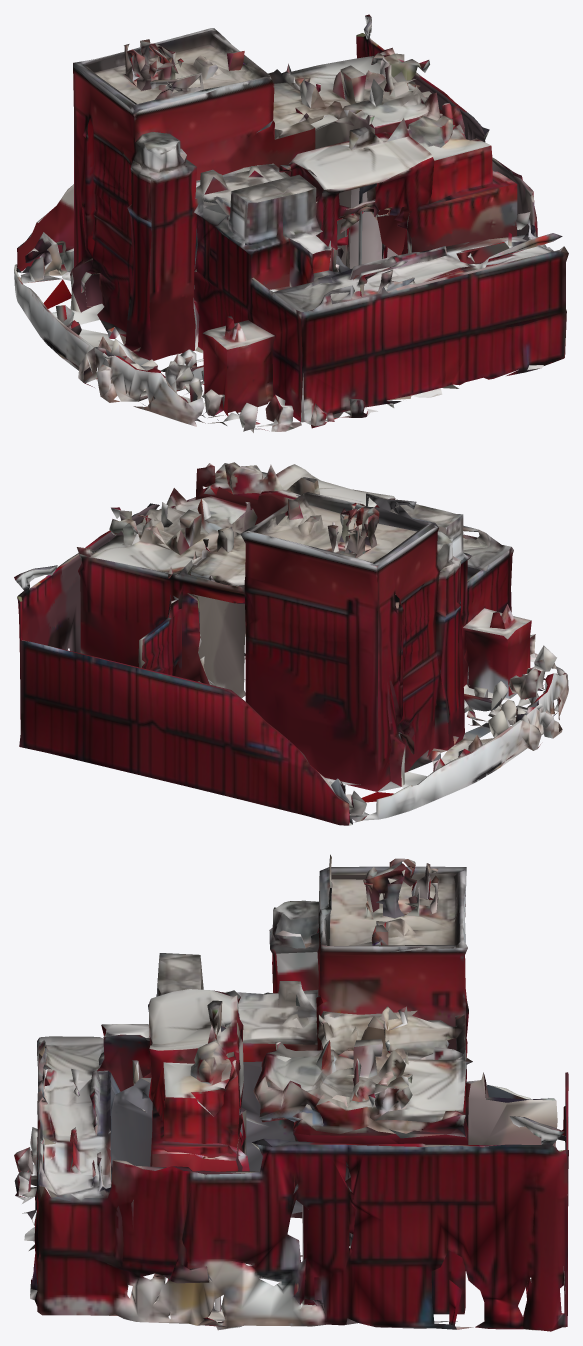
The model's file is render_works.glb.
3 renders of one model, top to bottom at view 1: azimuth 30°, elevation 25°; view 2: azimuth 150°, elevation 25°; view 3: azimuth 270°, elevation 25°, orthographic. The views are drawn at different scales.
Visible parts, largest first — view 1: LP_baked; view 2: LP_baked; view 3: LP_baked.
Part boxes in pixels (bbox=[...]): LP_baked: bbox=[14, 14, 568, 432]; LP_baked: bbox=[14, 462, 568, 825]; LP_baked: bbox=[14, 854, 568, 1331].
Size of the model in its own units: 1.97 by 1.21 by 1.95.
1 material, 1 textured.
